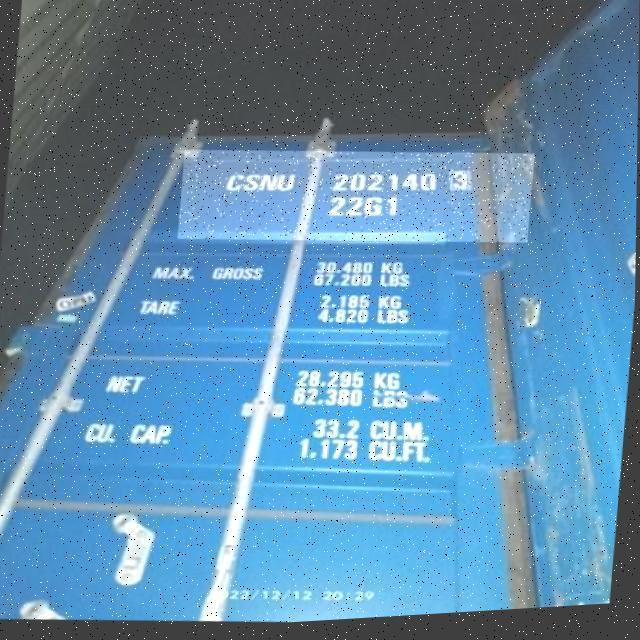container_number_h: (178, 135, 535, 265)
